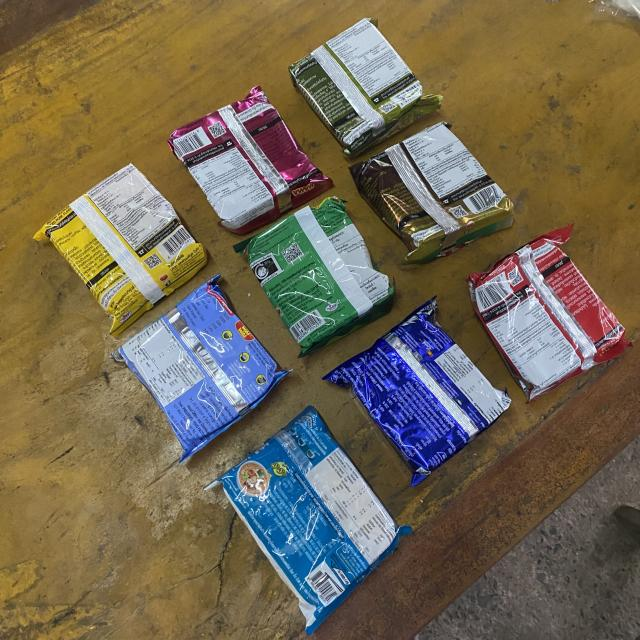plastik: (210, 406, 410, 634), (324, 298, 510, 485), (114, 276, 289, 461), (34, 164, 208, 336), (468, 225, 630, 401), (234, 196, 394, 356), (168, 86, 332, 234), (350, 121, 514, 264), (289, 19, 442, 156)
